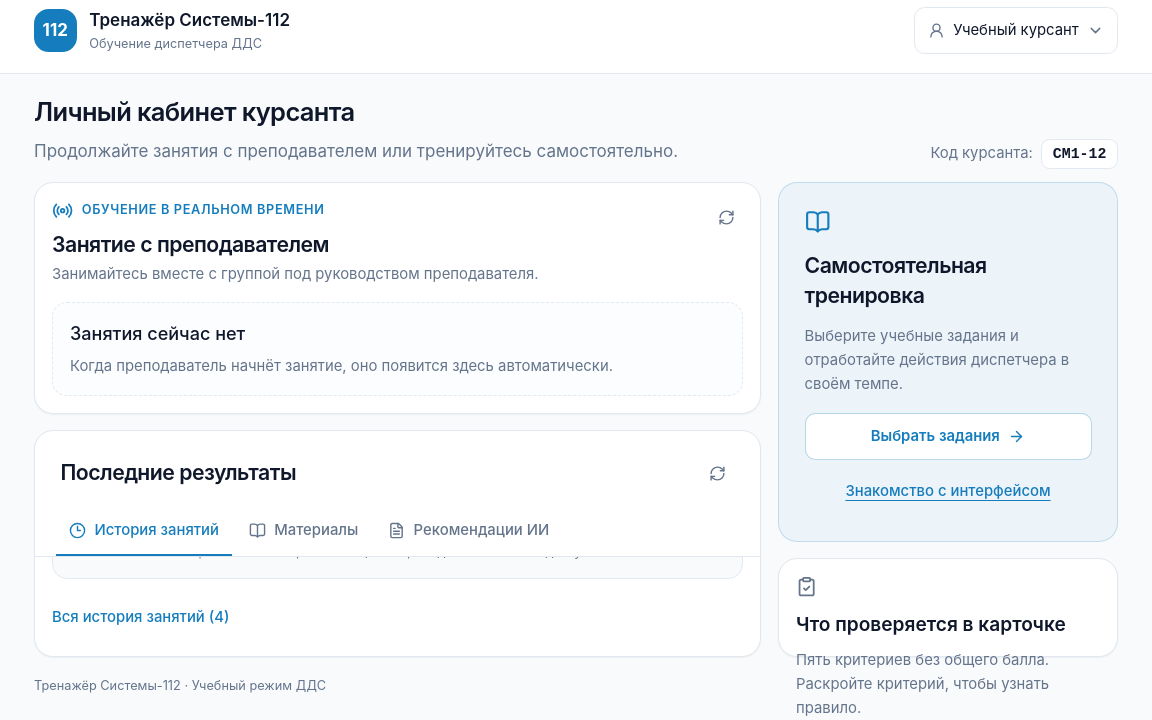
shows recent history first and can reveal older lessons
(page scrolled)
Check: the text "Учебное занятие 4" is not shown
Click the button "Вся история занятий (4)": (141, 618) [52,596,230,639]
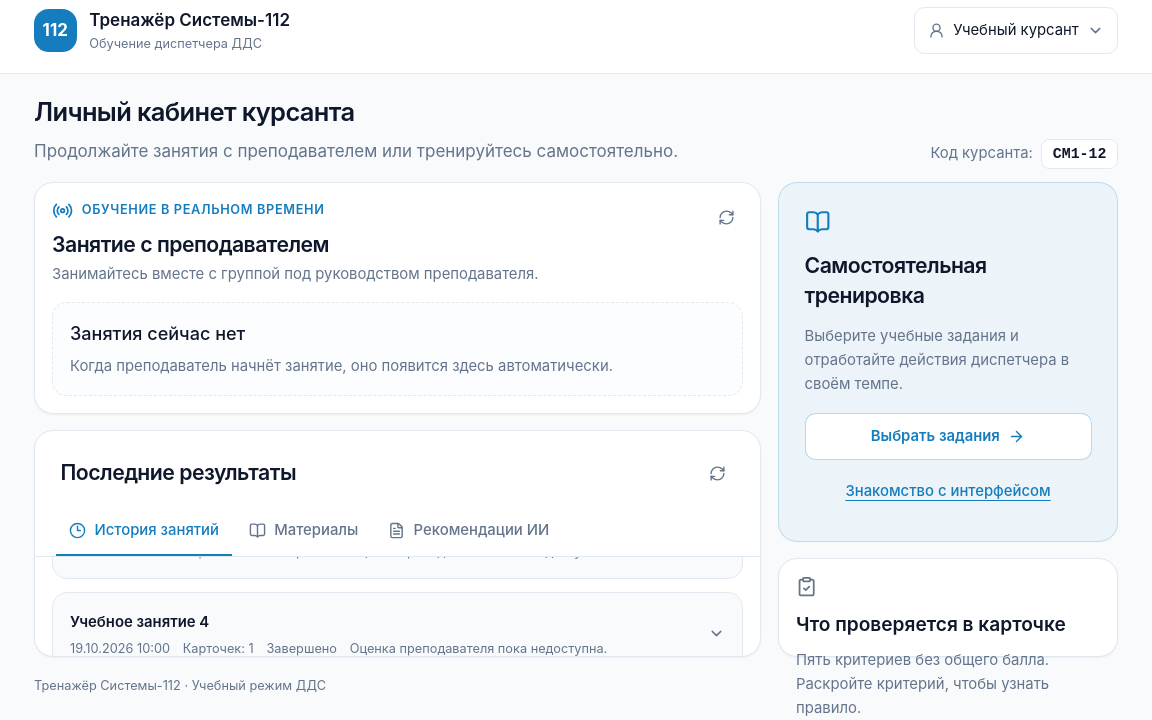
Check: the heading "Учебное занятие 4" is shown, box [70,613,209,631]
